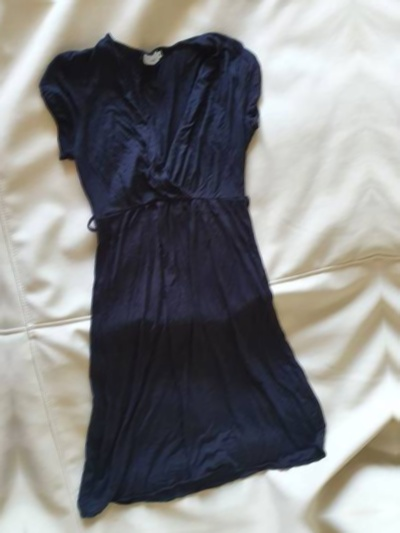Dress: (20, 8, 337, 496)
